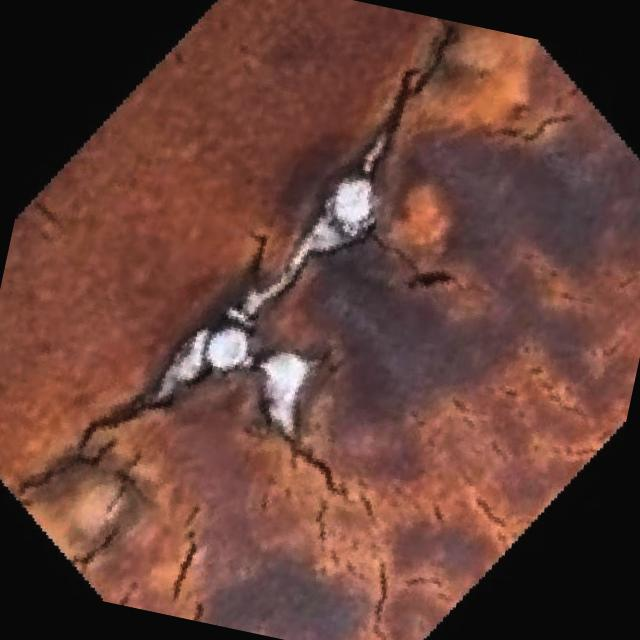crack: (271, 430, 378, 498), (373, 228, 452, 294)
